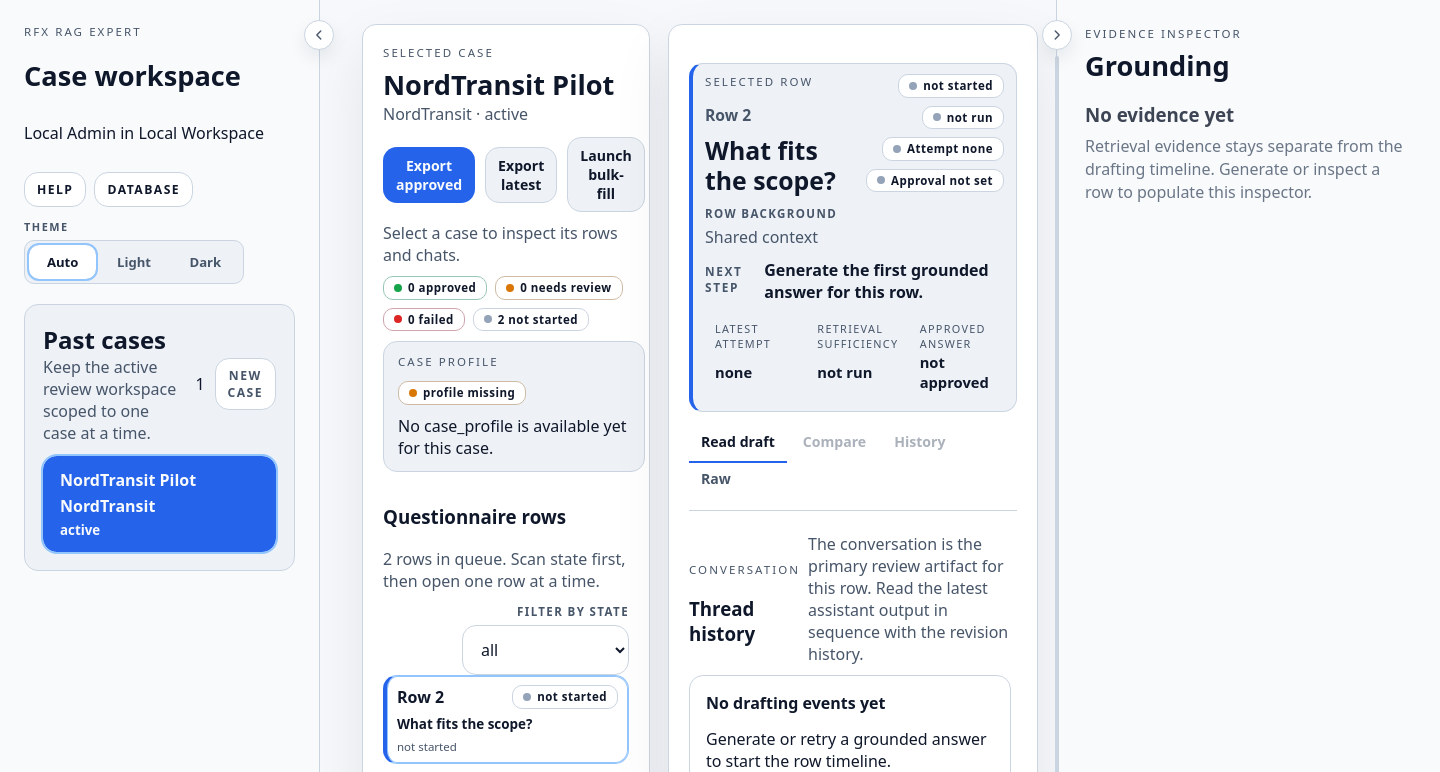
it: App › launches bulk-fill without warning for untouched rows and refreshes the status line
This screenshot has width=1440, height=772.
Step 1. Click the button "Launch bulk-fill" → click(606, 174), box [567,137,645,212]
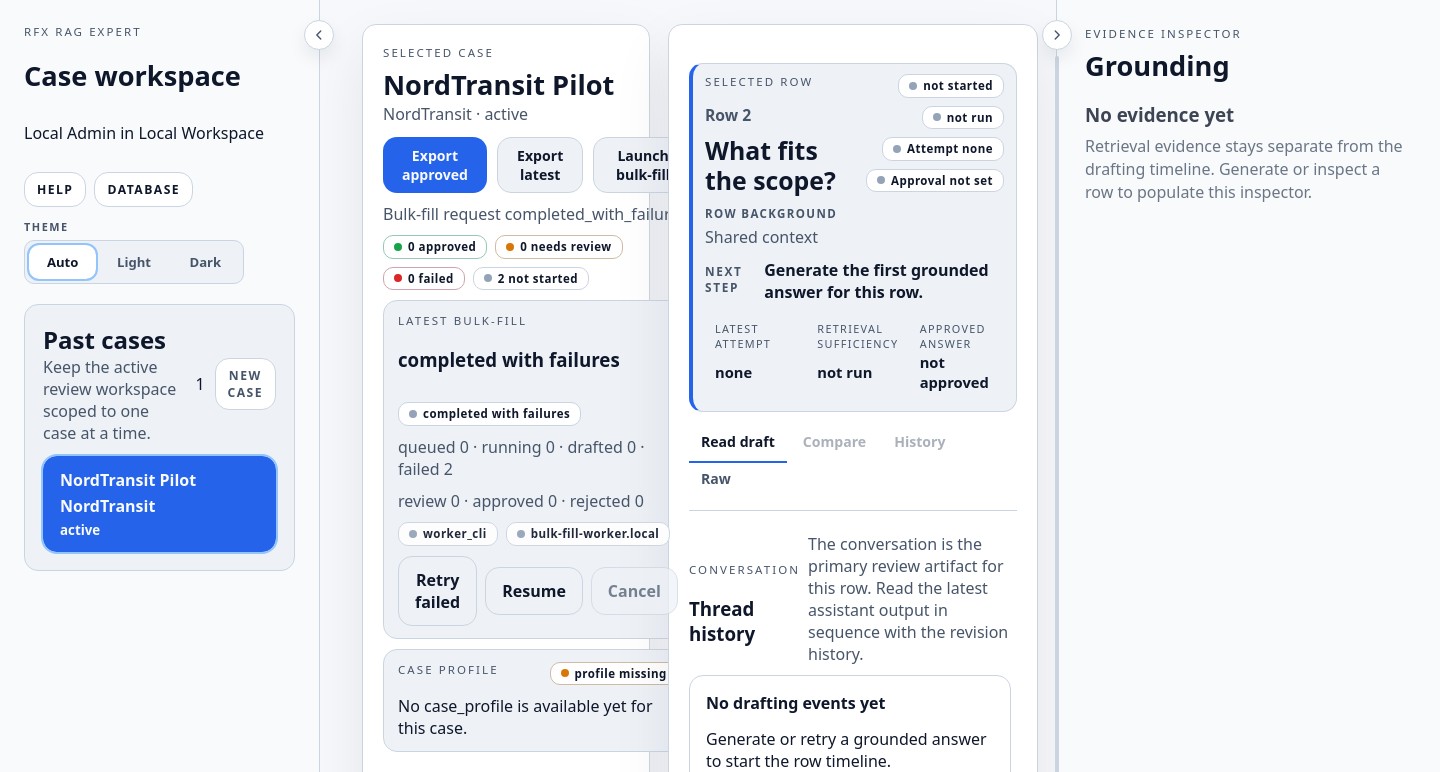
Expected: the text "Bulk-fill request completed_with_failures." is shown, [383,203,693,225]
